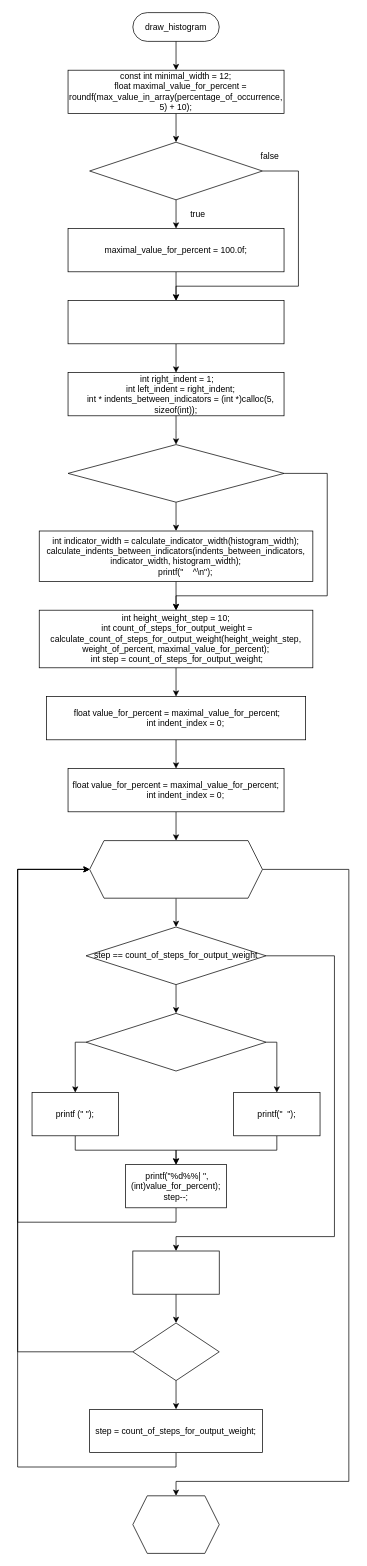
Image size: 367x1566. Some labels were removed from this diagram. The centre of each missing label's shape, as x and y in pixels:
float weight_of_percent = maximal_value_for_percent / (histogram_height - 1);: point 175,322
histogram_width >= minimal_width: point 175,473
int height_index = histogram_height - 1; height_index >= 1; height_index--: point 175,869
maximal_value_for_percent > 100: point 175,170
printf(" | "); step--;: point 175,1272
step == 0: point 175,1351
value_for_percent >= 10.0f && value_for_percent < 100.0f: point 175,1042
